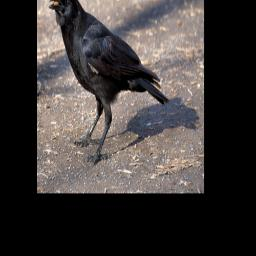Crow: (49, 0, 169, 165)
